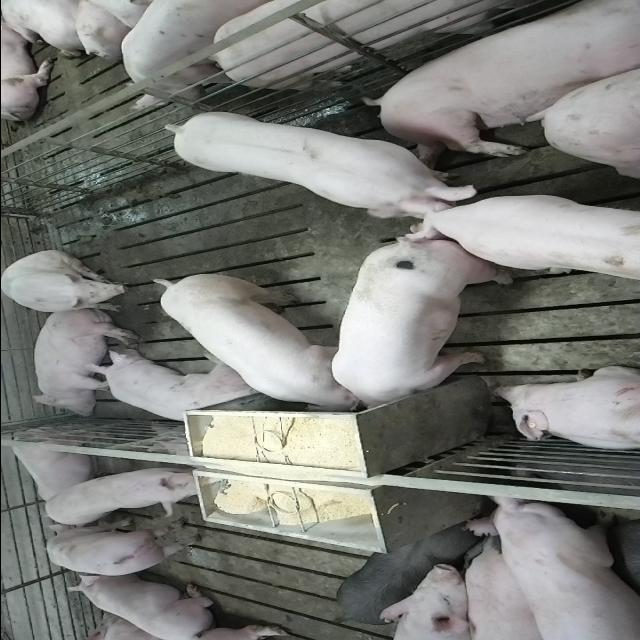Feeding: (330, 241, 512, 420), (143, 269, 360, 411)
Lateral_lying: (28, 308, 142, 417)
Sitting: (1, 250, 134, 314)
Standing: (200, 0, 640, 92), (153, 109, 477, 222), (462, 495, 640, 638), (406, 184, 640, 280), (117, 0, 275, 109), (332, 527, 470, 628), (42, 465, 207, 527), (458, 538, 553, 640), (38, 524, 206, 578)
Sternal_lying: (84, 352, 260, 428), (490, 366, 640, 454), (62, 574, 215, 638), (5, 428, 100, 506)
